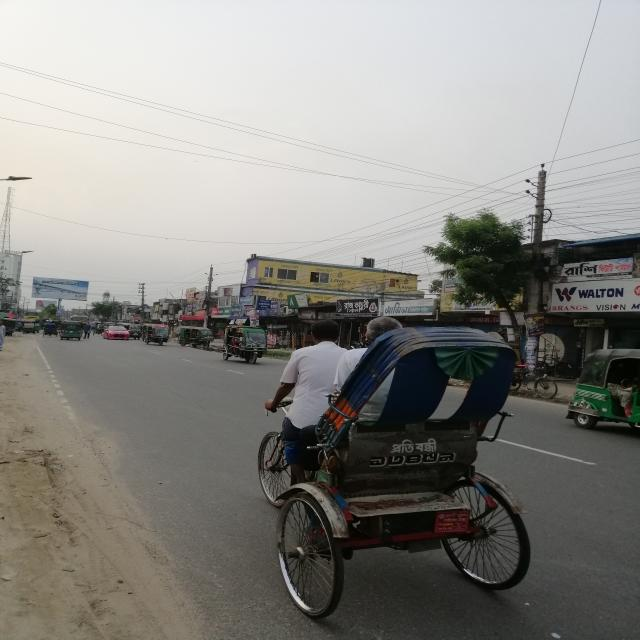CNG: (551, 336, 640, 436), (49, 316, 97, 352)
Car: (95, 321, 134, 347)
Easybike: (214, 320, 277, 372), (134, 320, 178, 351), (171, 325, 218, 352)
Rickshaw: (212, 306, 581, 635)
